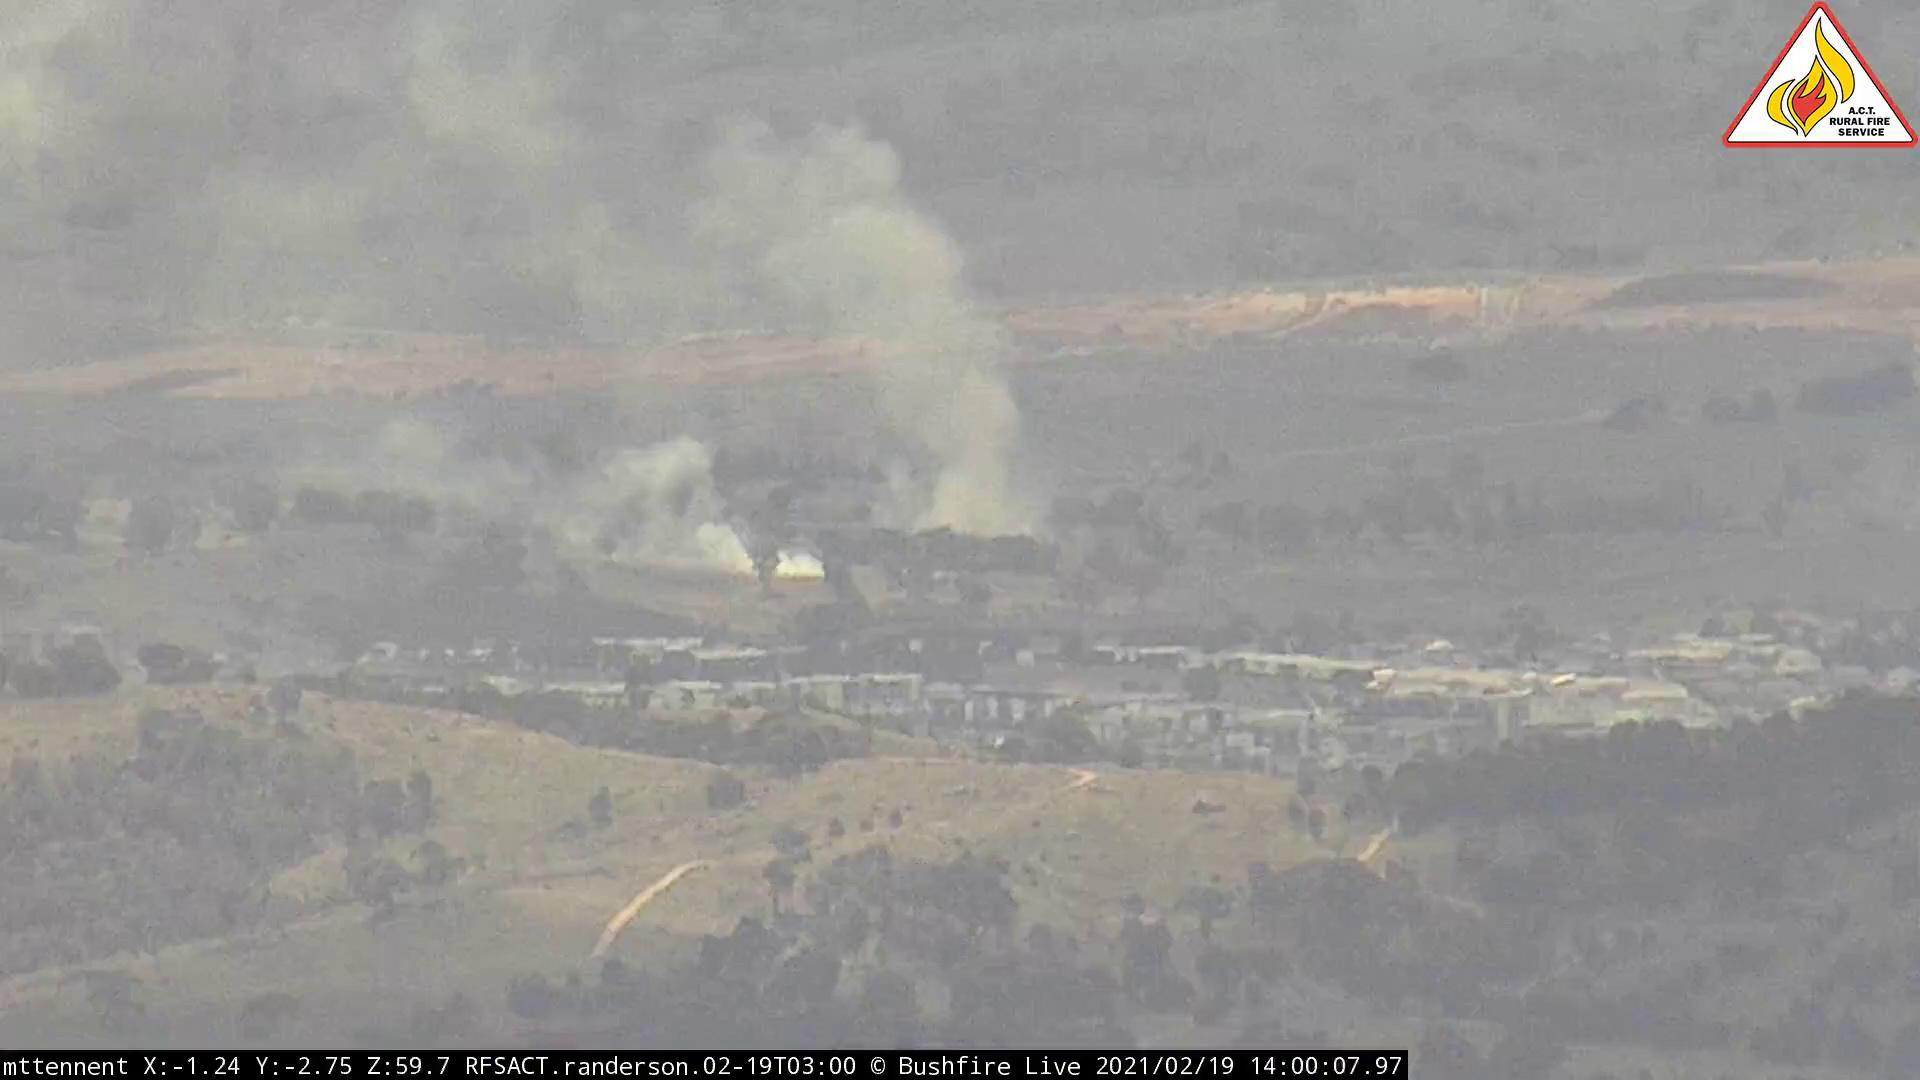Smoke: (187, 53, 1054, 546), (277, 392, 847, 589)
